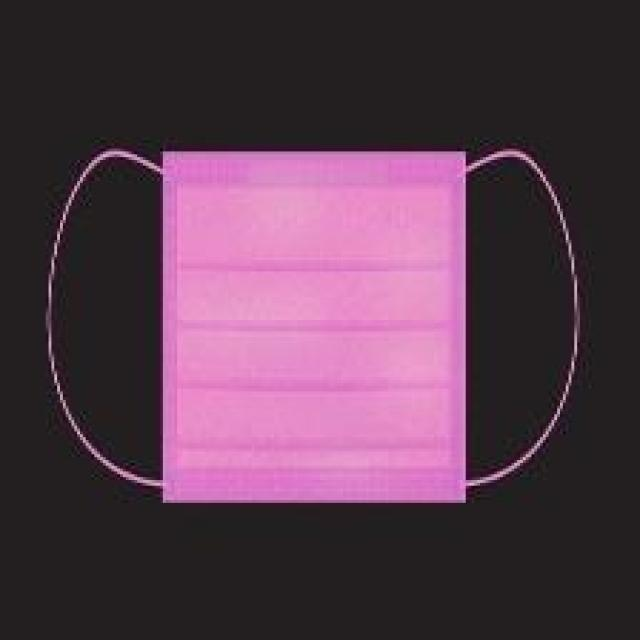Mask: (44, 122, 602, 518)
